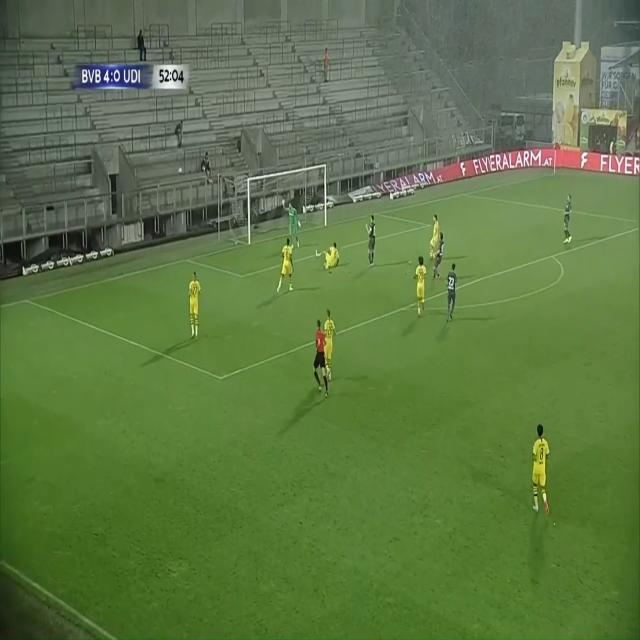ball: (179, 164, 187, 182)
goalkeeper: (283, 202, 305, 248)
player: (524, 421, 555, 523), (324, 303, 344, 383), (184, 268, 204, 344), (314, 238, 348, 282), (410, 257, 433, 321), (279, 236, 299, 299), (445, 260, 462, 334), (368, 206, 382, 273), (425, 209, 443, 255), (563, 191, 576, 247), (433, 235, 447, 280)
referee: (310, 310, 332, 399)
